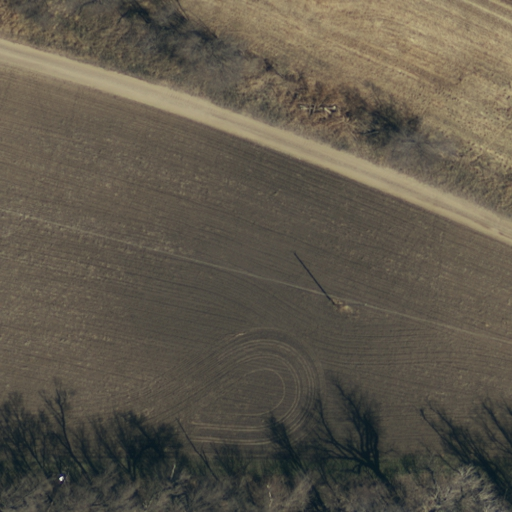DT: (337, 292, 369, 320)
